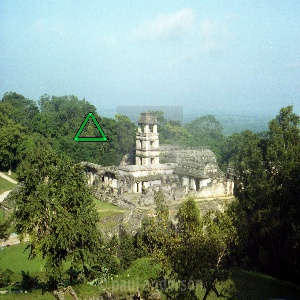triangle: (71, 110, 108, 144)
